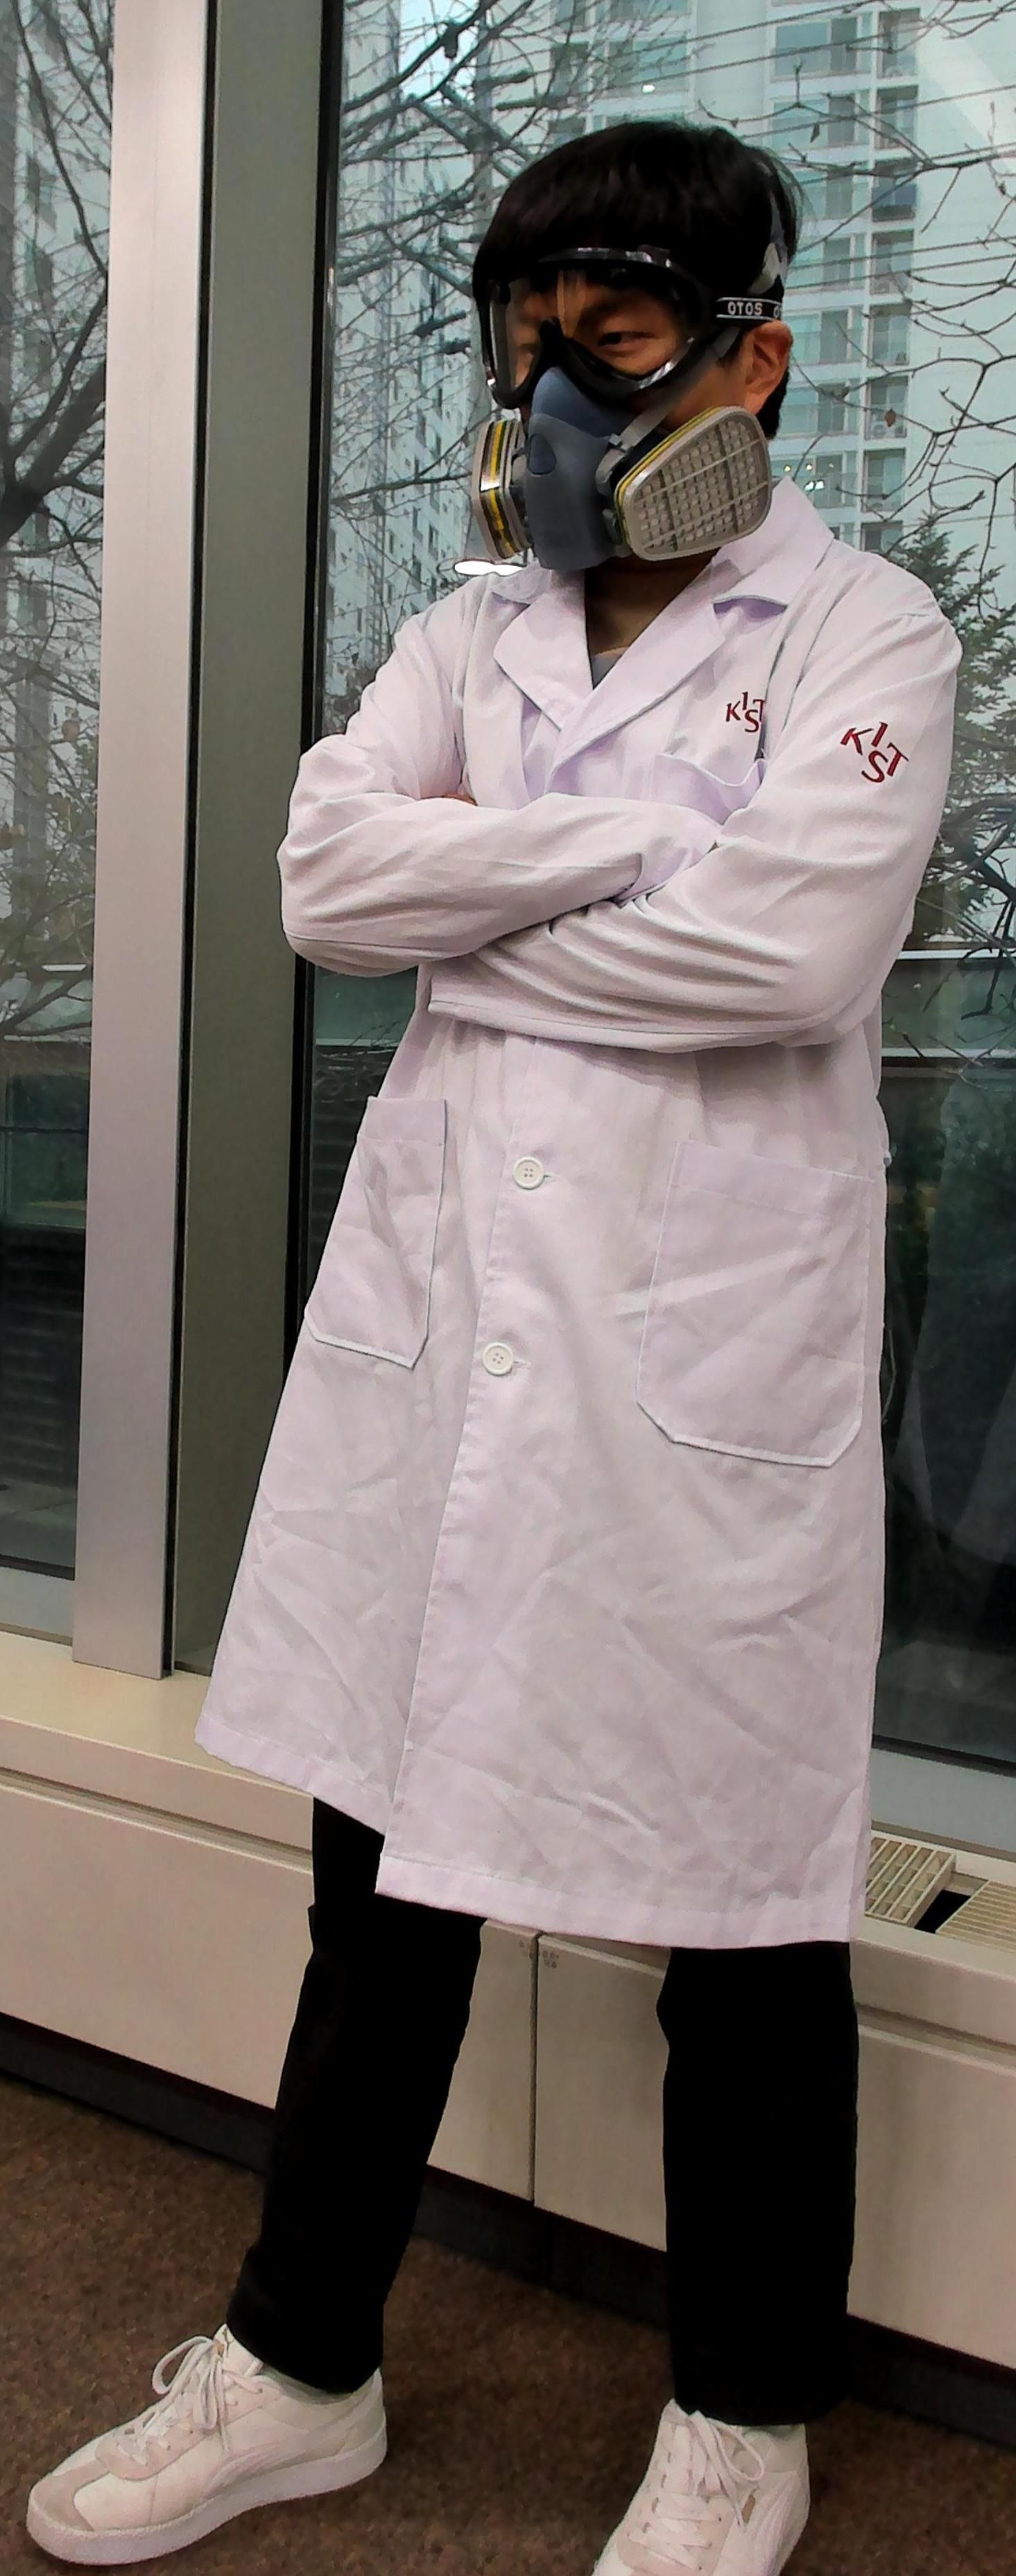lab_coat: (210, 583, 959, 1940)
